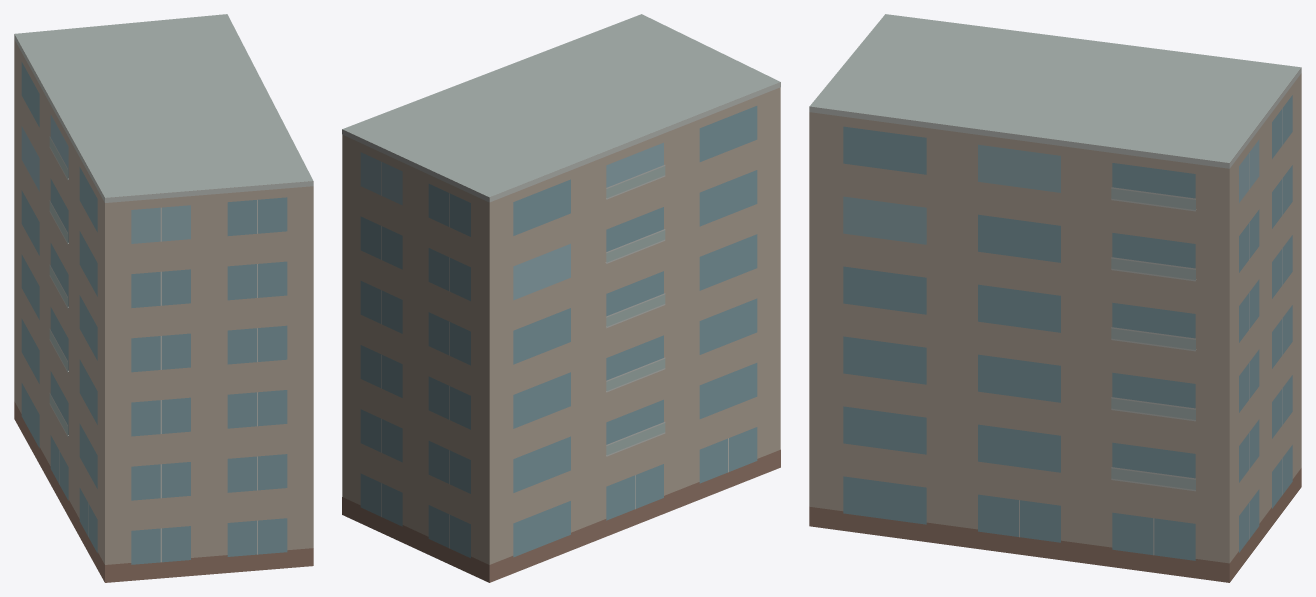
The model's file is survey-upis-32879439.glb.
The picture shows the model from 3 angles, left to right: view 1: azimuth 30°, elevation 25°; view 2: azimuth 150°, elevation 25°; view 3: azimuth 270°, elevation 25°; orthographic projection. The views are drawn at different scales.
Visible parts, largest first — view 1: survey-upis-32879439.tmp; view 2: survey-upis-32879439.tmp; view 3: survey-upis-32879439.tmp.
Part boxes in pixels (box(x1,y1,x2,y2)): survey-upis-32879439.tmp: box(14, 14, 313, 582); survey-upis-32879439.tmp: box(342, 14, 780, 582); survey-upis-32879439.tmp: box(809, 14, 1301, 582).
Size of the model in its own units: 13.8 by 18.1 by 19.24.
